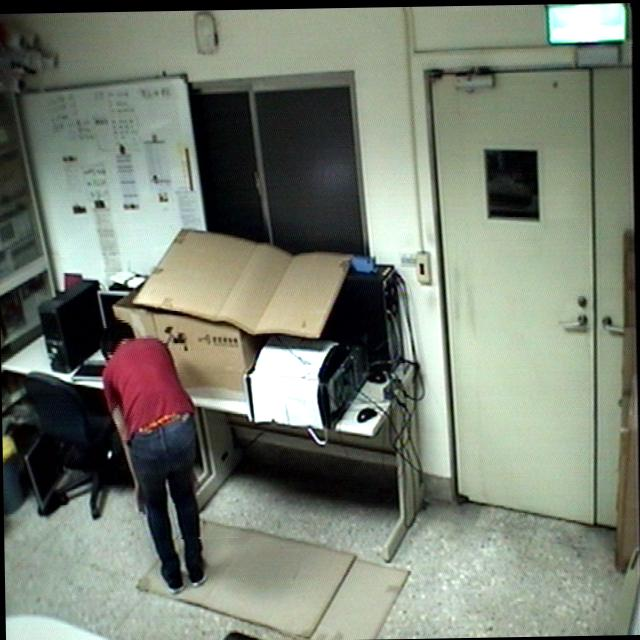bend: (93, 312, 218, 598)
